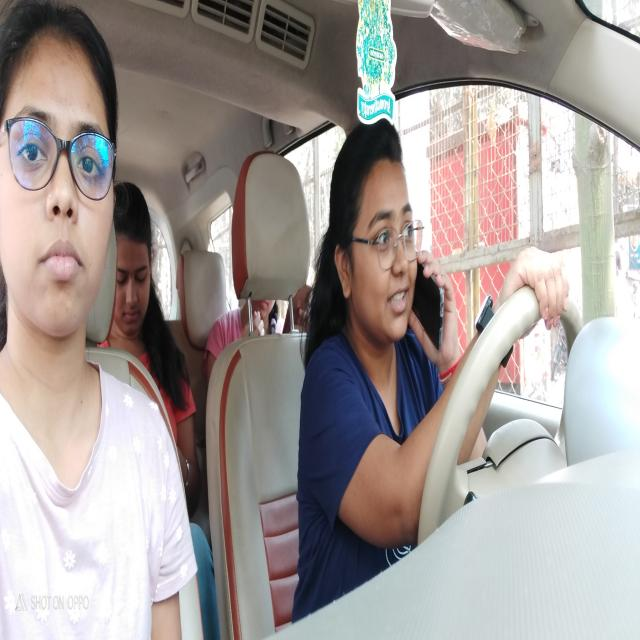mobile: (413, 263, 448, 359)
person: (3, 8, 117, 346), (330, 122, 418, 350), (115, 178, 155, 341), (251, 298, 281, 336)
